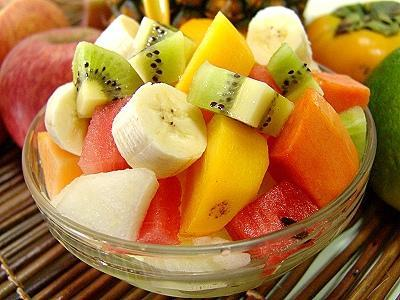apple: (1, 27, 105, 151)
